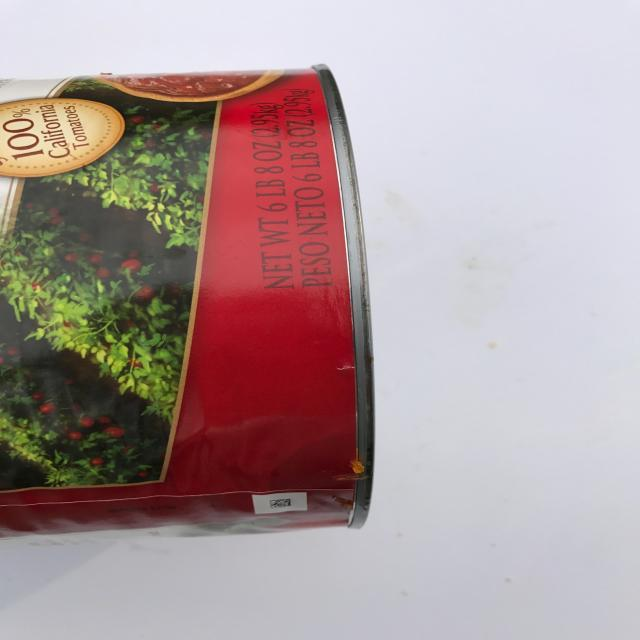metal: (1, 64, 377, 543)
